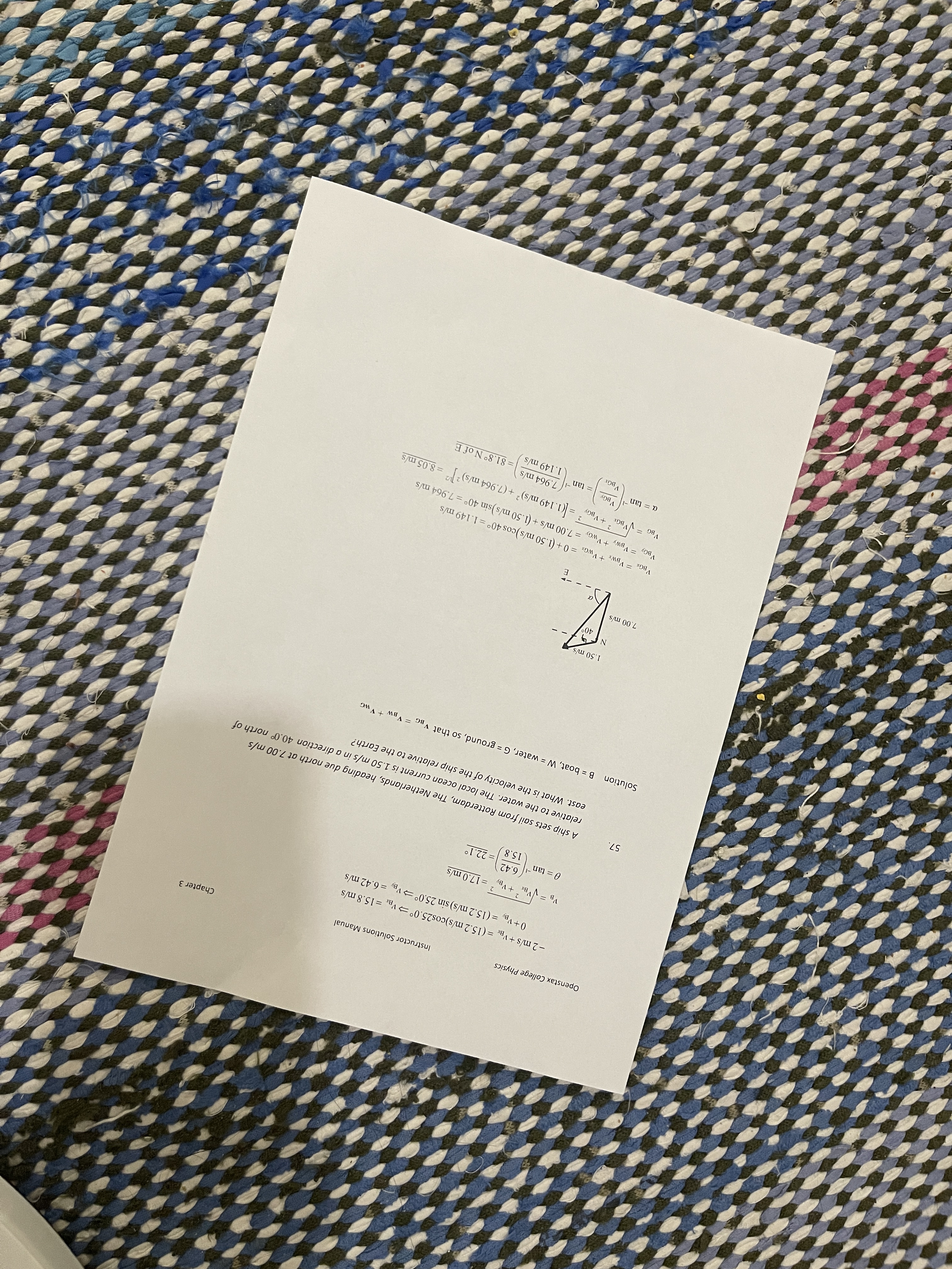paper: (71, 177, 837, 1095)
